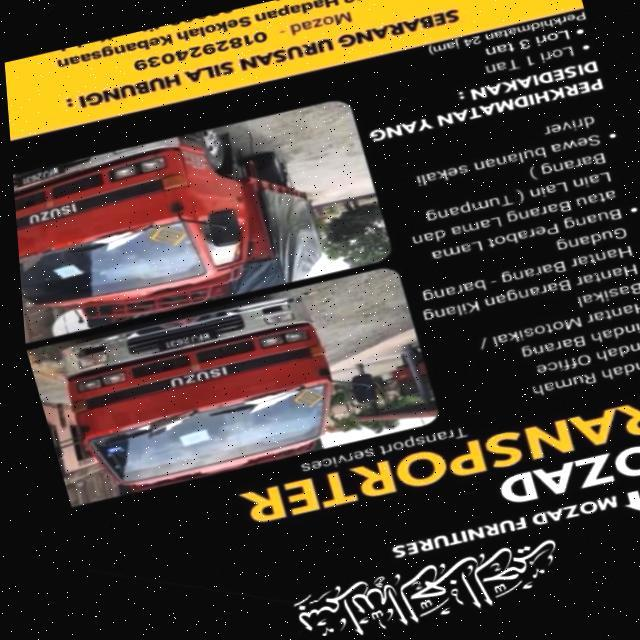truck: (6, 108, 328, 342), (46, 285, 347, 497)
